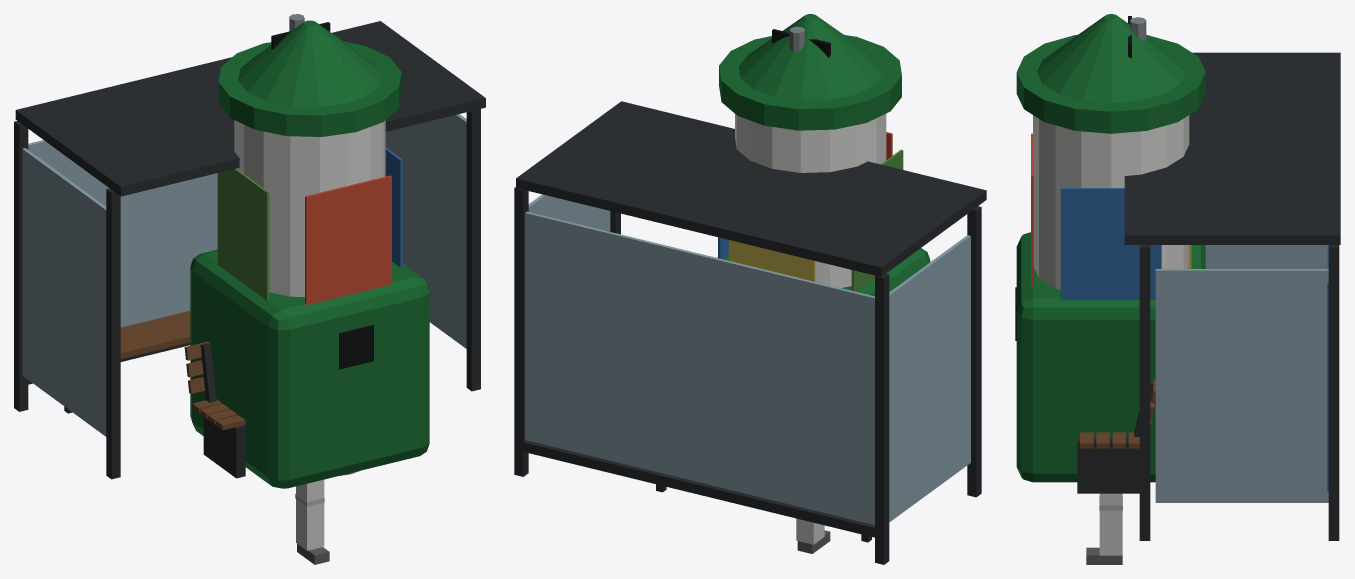
File: props.glb
The picture shows the model from 3 angles, left to right: view 1: azimuth 30°, elevation 25°; view 2: azimuth 150°, elevation 25°; view 3: azimuth 270°, elevation 25°; orthographic projection. The views are drawn at different scales.
Visible parts, largest first — view 1: bushaltestelle-dach_lod0, litfasssaeule_lod0, container_lod0, bank_lod0, fussgaenger-1_leg; view 2: bushaltestelle-dach_lod0, litfasssaeule_lod0, container_lod0, fussgaenger-1_leg, ampel_lod0; view 3: bushaltestelle-dach_lod0, litfasssaeule_lod0, container_lod0, bank_lod0, fussgaenger-1_leg, ampel_lod0.
Part boxes in pixels (x1,y1,x2,y2): bushaltestelle-dach_lod0: [14, 21, 485, 479]; litfasssaeule_lod0: [217, 20, 402, 475]; container_lod0: [190, 249, 429, 488]; bank_lod0: [184, 341, 245, 478]; fussgaenger-1_leg: [295, 479, 329, 564]; bushaltestelle-dach_lod0: [514, 101, 986, 564]; litfasssaeule_lod0: [718, 14, 903, 291]; container_lod0: [717, 248, 930, 296]; fussgaenger-1_leg: [796, 518, 830, 553]; ampel_lod0: [772, 26, 844, 57]; bushaltestelle-dach_lod0: [1124, 52, 1340, 540]; litfasssaeule_lod0: [1016, 14, 1205, 299]; container_lod0: [1015, 232, 1205, 482]; bank_lod0: [1077, 379, 1155, 493]; fussgaenger-1_leg: [1086, 493, 1122, 564]; ampel_lod0: [1072, 16, 1146, 58].
Size of what is drawn, in the model's own units: 3.24 by 4.45 by 2.41.
